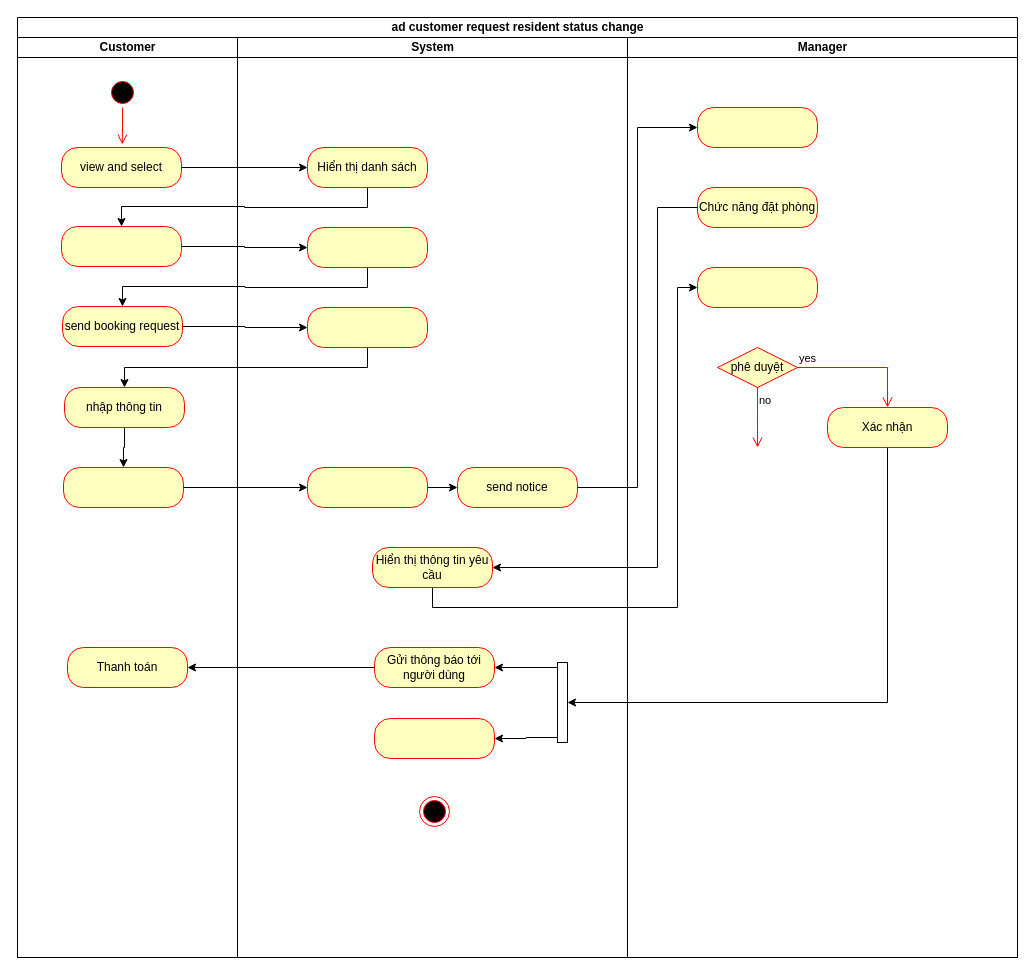
Image size: 1035x975. Some labels were removed from this diagram. Each missing label, with the centre of its shape:
"choose room" goes at point (121, 246).
"ghi nhận" goes at point (367, 247).
"ghi nhận yc đặt phòng" goes at point (367, 487).
"hiển thị thông tin phòng" goes at point (367, 327).
"Kiểm tra thông tin" goes at point (757, 287).
"Nhận thông báo" goes at point (757, 127).
"Update thông tin" goes at point (434, 738).
"ấn xác nhận" goes at point (123, 487).
